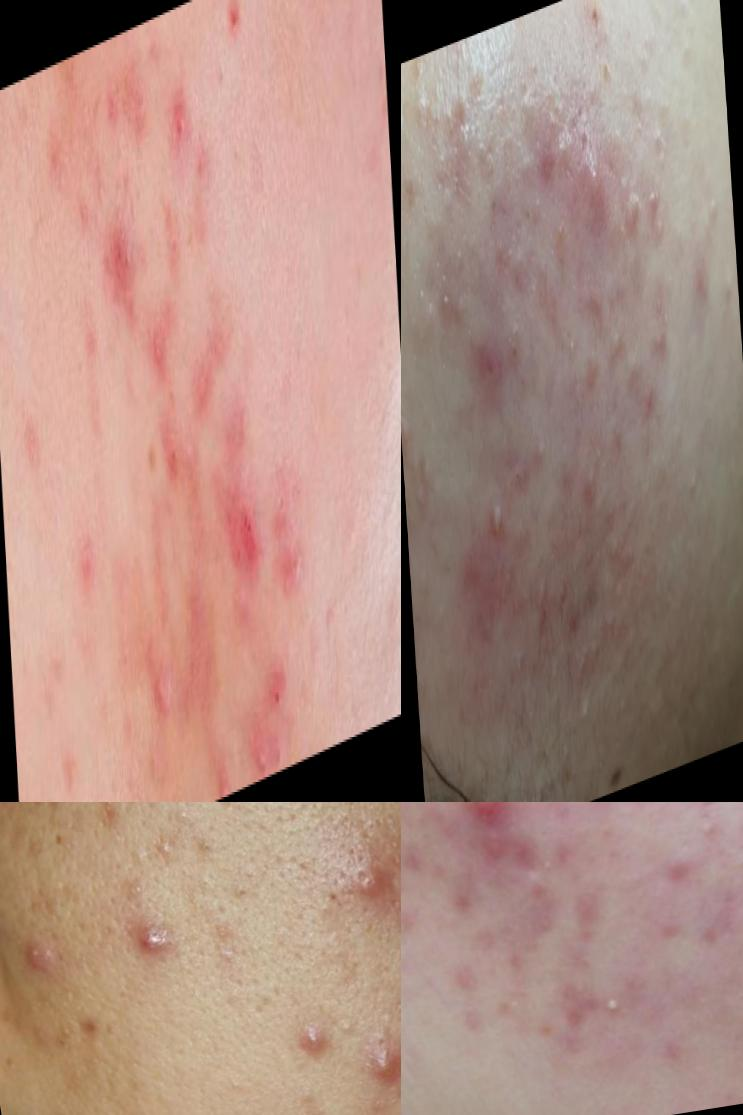blackhead: (507, 449, 529, 512)
papular: (105, 215, 148, 370), (218, 479, 266, 607), (573, 128, 614, 265), (159, 74, 193, 199), (269, 1011, 337, 1068), (645, 263, 679, 358), (143, 664, 177, 747), (473, 327, 505, 411), (156, 420, 182, 520), (448, 803, 523, 834), (150, 307, 173, 392), (602, 318, 630, 375), (688, 250, 714, 311), (636, 364, 663, 421)
purulent: (105, 909, 184, 997), (359, 1034, 402, 1115), (241, 703, 272, 788), (477, 478, 505, 554)
sebo-crystan-conglo: (620, 170, 641, 240)
whitehead: (581, 26, 624, 112), (590, 964, 632, 1037), (693, 804, 739, 864), (676, 5, 701, 98), (412, 451, 442, 528), (643, 168, 668, 255), (474, 124, 501, 193), (540, 632, 564, 707), (701, 183, 725, 252), (560, 318, 587, 377), (652, 110, 675, 179), (574, 682, 597, 742), (519, 138, 540, 200), (418, 93, 435, 134)
